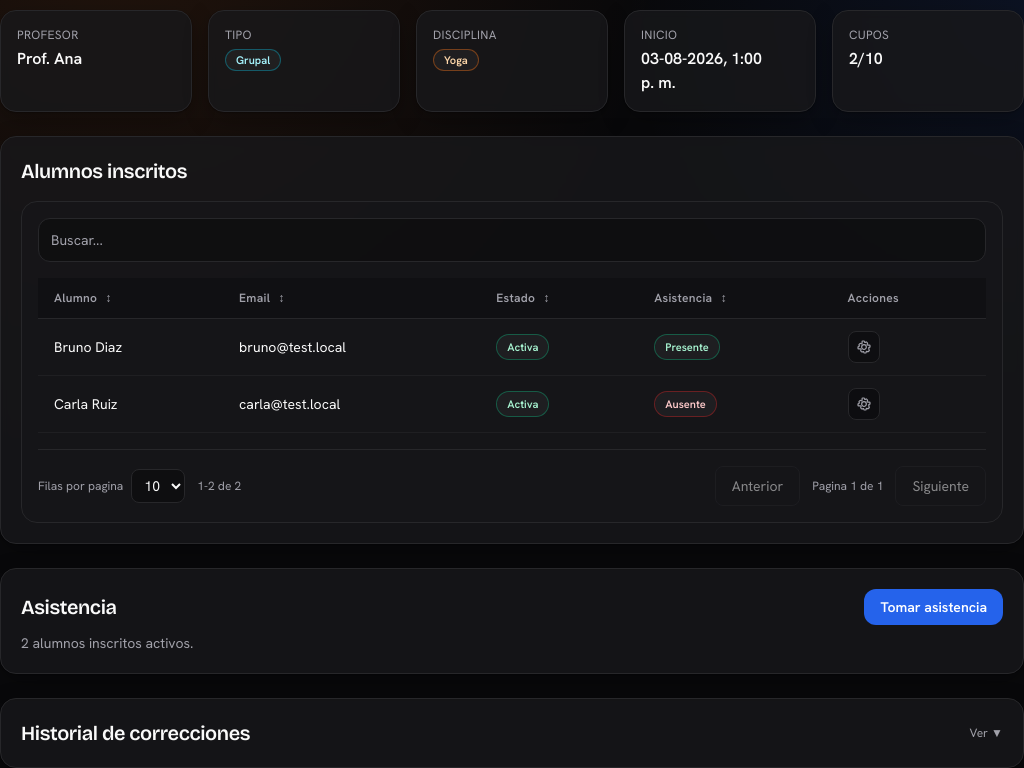
it: GymAdminClassDetailPage — historial de correcciones (#10.2) › un log con source "qr" (10.2-H1: pisada de QR) se etiqueta distinto del manual
The width and height of the screenshot is (1024, 768).
(page scrolled)
expect the button "Tomar asistencia" is enabled: met, box [864, 589, 1003, 625]
Step 1. Click the button "Historial de correcciones Ver ▼" → click(136, 733), box [21, 719, 1003, 747]
(page scrolled)
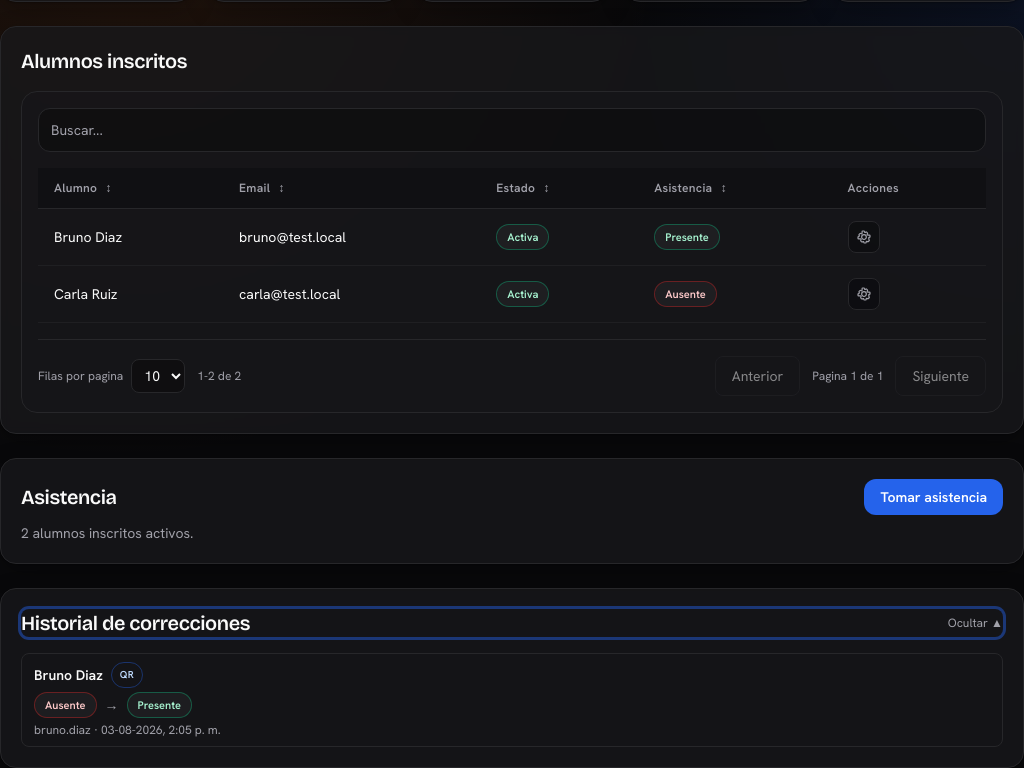
expect the text "QR" is shown: met, box [111, 662, 143, 688]
